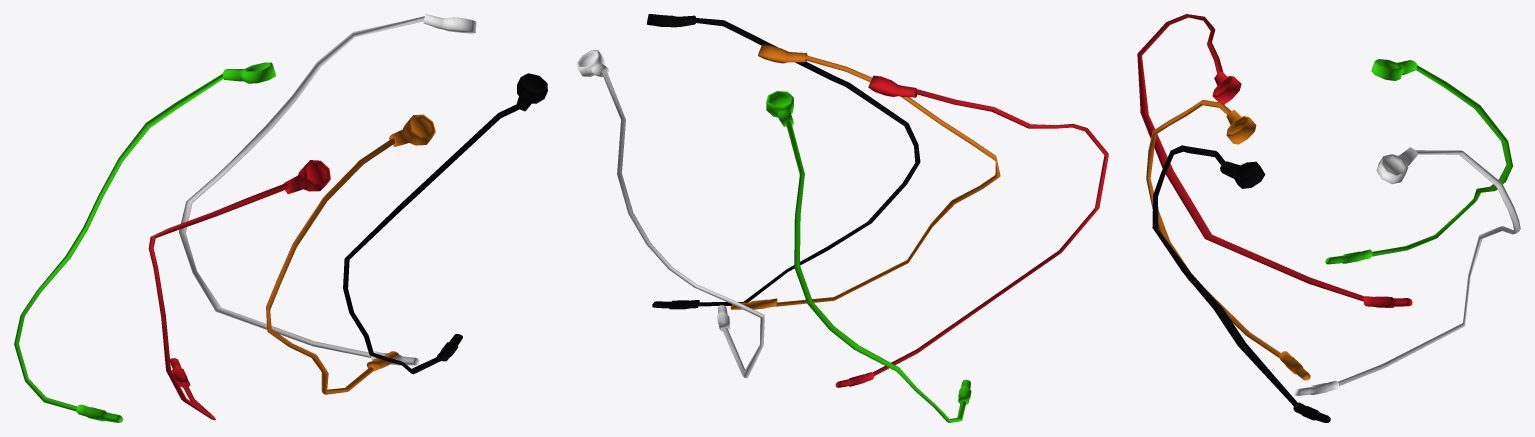
Rendered from EGC_LOW_5.fbx.
The picture shows the model from 3 angles, left to right: view 1: azimuth 30°, elevation 25°; view 2: azimuth 150°, elevation 25°; view 3: azimuth 270°, elevation 25°; orthographic projection. The views are drawn at different scales.
Visible parts, largest first — view 1: Brown; view 2: Brown; view 3: Brown.
Boxes of the visible parts, bbox=[...] form: Brown: bbox=[14, 14, 547, 422]; Brown: bbox=[576, 14, 1108, 422]; Brown: bbox=[1137, 14, 1520, 422].
Size of the model in its own units: 117 by 75.03 by 90.84.
